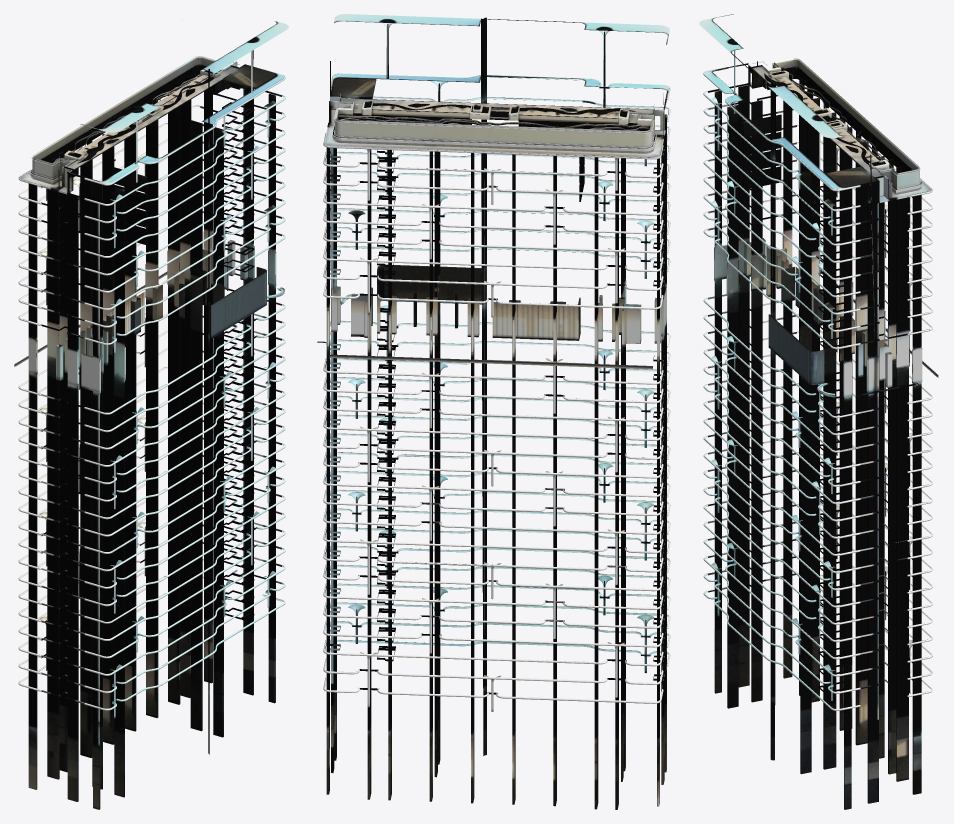
The model's file is Velos_build_4.glb.
The picture shows the model from 3 angles, left to right: view 1: azimuth 30°, elevation 25°; view 2: azimuth 150°, elevation 25°; view 3: azimuth 270°, elevation 25°; orthographic projection. The views are drawn at different scales.
Visible parts, largest first — view 1: Velos_build.004; view 2: Velos_build.004; view 3: Velos_build.004.
Boxes of the visible parts, x1,y1,x2,y2 form: Velos_build.004: [14, 14, 288, 809]; Velos_build.004: [317, 14, 670, 809]; Velos_build.004: [699, 14, 938, 809].
Bounding box in the file's own units: 82.23 × 189 × 60.83.
1 material, 1 textured.
